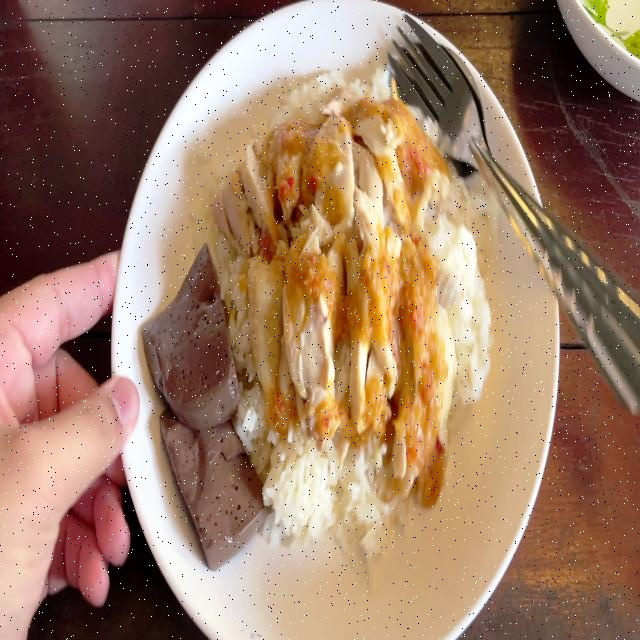boiled_chicken: (236, 109, 452, 417)
boiled_chicken_blood_jelly: (163, 376, 271, 564), (141, 243, 236, 414)
chicken_rice: (141, 72, 502, 580)
